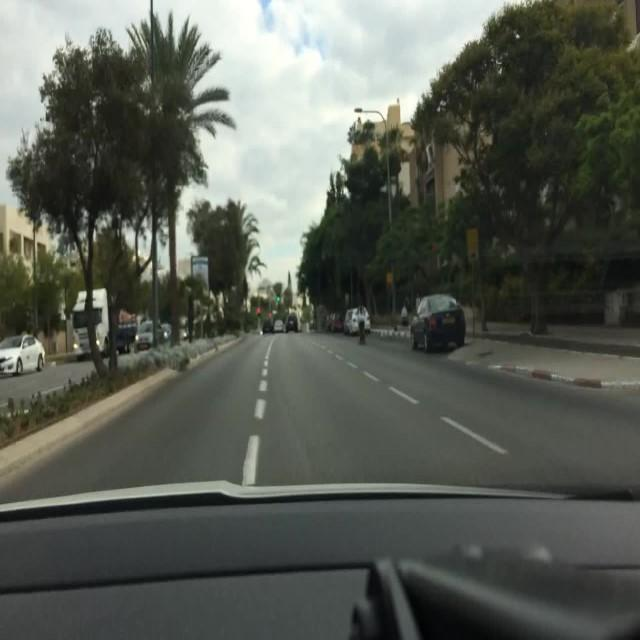normal: (408, 292, 465, 351), (0, 334, 44, 375)
